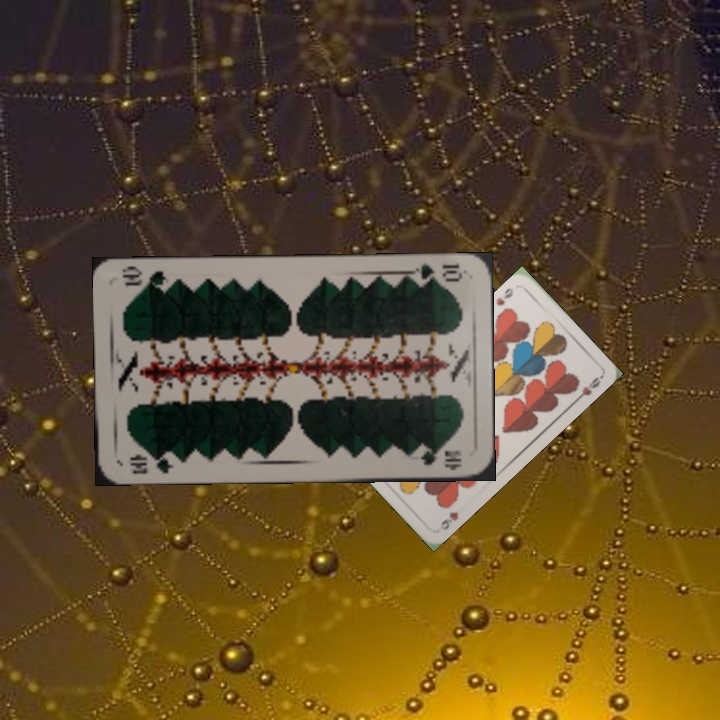G10: (407, 260, 464, 287), (126, 449, 176, 476)
H9: (436, 507, 461, 533), (492, 284, 516, 308)
